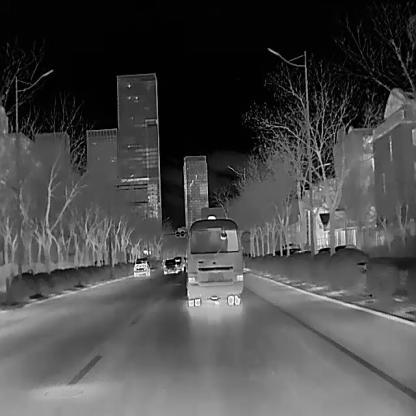car: (185, 212, 245, 306), (133, 256, 149, 275), (162, 257, 177, 274), (174, 256, 184, 271)
